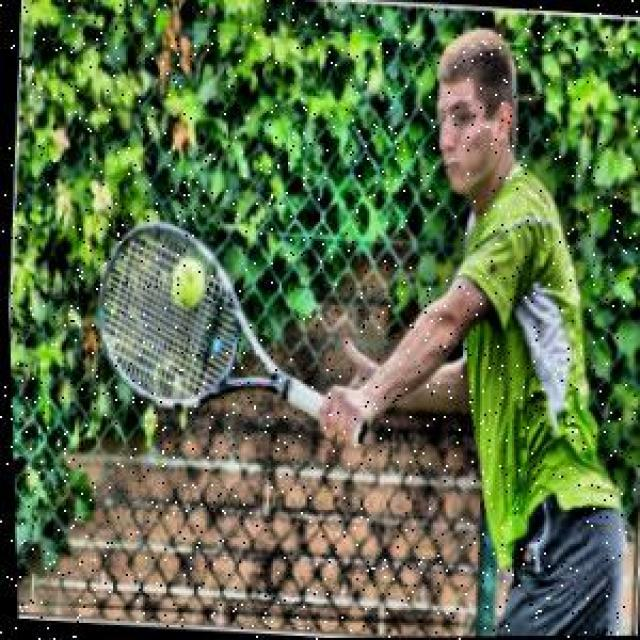tennis-ball: (167, 256, 206, 310)
